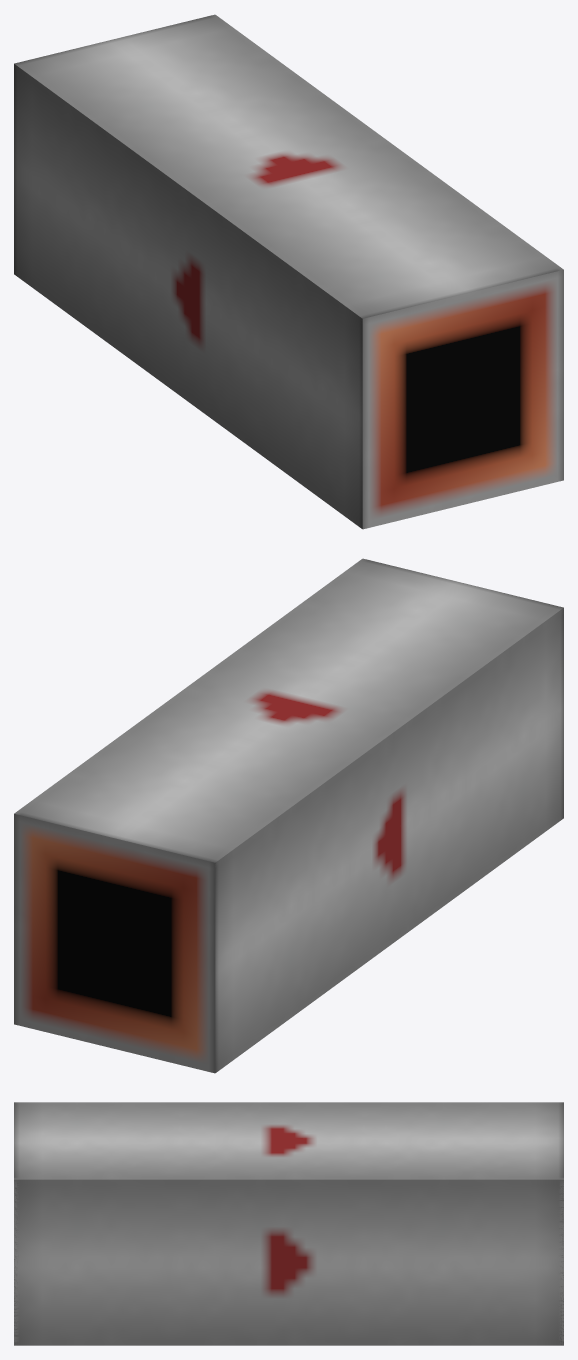
File: beamline.obj
3 renders of one model, top to bottom at view 1: azimuth 30°, elevation 25°; view 2: azimuth 150°, elevation 25°; view 3: azimuth 270°, elevation 25°, orthographic. The views are drawn at different scales.
Visible parts, largest first — view 1: BeamlineWindow, Beamline; view 2: BeamlineWindow, Beamline; view 3: BeamlineWindow, Beamline.
Boxes of the visible parts, <box> form: BeamlineWindow: <box>14,14,563,529</box>; Beamline: <box>14,64,362,528</box>; BeamlineWindow: <box>14,558,563,1073</box>; Beamline: <box>215,608,563,1071</box>; BeamlineWindow: <box>14,1102,563,1345</box>; Beamline: <box>14,1179,563,1345</box>.
Size of the model in its own units: 1 by 1 by 3.
